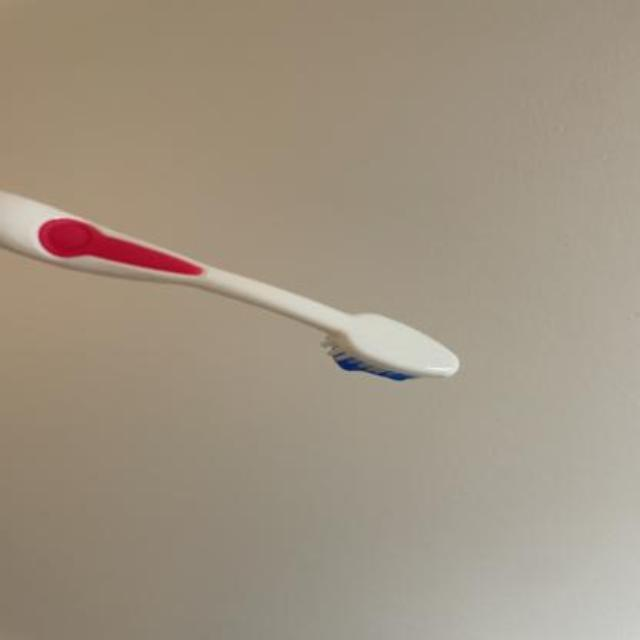toothbrush: (1, 172, 473, 396)
